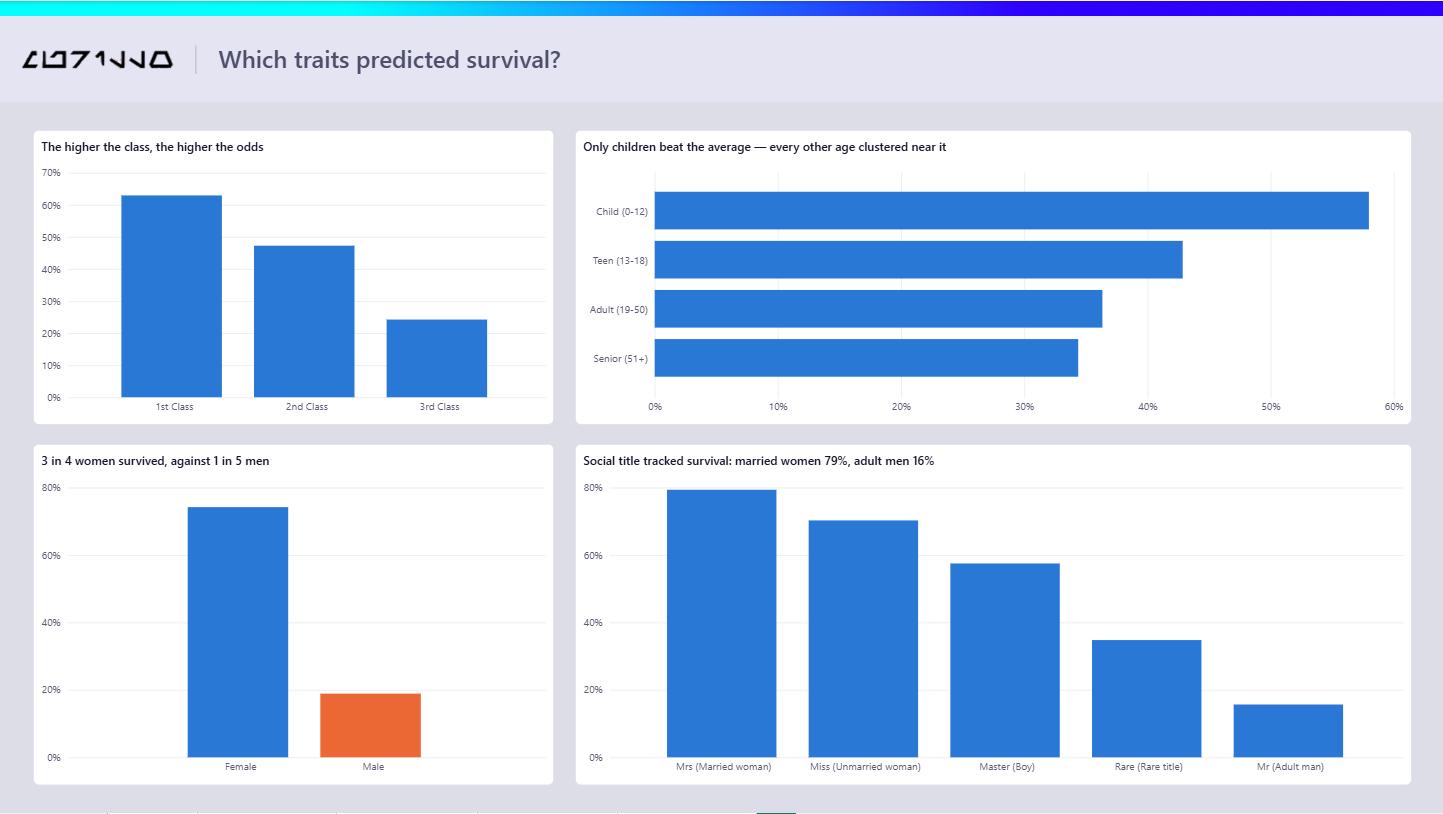

The page's visual inventory and layout, read from the dashboard file:
{"tool":"powerbi","page":{"name":"Survival by Profile","canvas":[1920,1080],"ordinal":1},"visuals":[{"type":"lineClusteredColumnComboChart","title":"The higher the class, the higher the odds","fields":{"Category":["d_classe.NomeClasse"],"Y":["_Measures.Taxa_Sobrevivencia"]},"box":[43.8,172.2,693,392.5],"z":0},{"type":"columnChart","title":"3 in 4 women survived, against 1 in 5 men","fields":{"Category":["d_sexo.Descricao"],"Y":["_Measures.Taxa_Sobrevivencia"]},"box":[43.8,589.4,693,453.7],"z":1000},{"type":"clusteredBarChart","title":"Only children beat the average — every other age clustered near it","fields":{"Category":["d_faixa_etaria.Faixa"],"Y":["_Measures.Taxa_Sobrevivencia"]},"box":[764.5,172.2,1113.2,392.5],"z":2000},{"type":"columnChart","title":"\tSocial title tracked survival: married women 79%, adult men 16%","fields":{"Category":["d_titulo.Titulo"],"Y":["_Measures.Taxa_Sobrevivencia"]},"box":[764.5,589.4,1113.2,453.7],"z":3000},{"type":"textbox","box":[280,44.3,828.6,72.9],"z":4000}]}

Visuals, with their boxes in screenshot pixels (x1, y1, x2, y2), scaled from the page's 1920x1080 canvas onto the 1443x814 screenshot:
"The higher the class, the higher the odds" lineClusteredColumnComboChart: 33, 130, 554, 426
"3 in 4 women survived, against 1 in 5 men" columnChart: 33, 444, 554, 786
"Only children beat the average — every other age clustered near it" clusteredBarChart: 575, 130, 1411, 426
"	Social title tracked survival: married women 79%, adult men 16%" columnChart: 575, 444, 1411, 786
textbox: 210, 33, 833, 88
